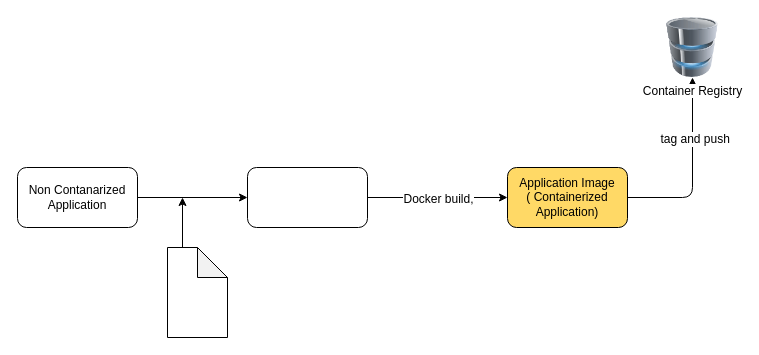
The diagram is 759 pixels wide and 355 high, and some of its shapes have lost their labels. The centre of each missing label's shape, as x and y in pixels:
Application enabled for containerization: [307,197]
Dockerfile: [197,292]
